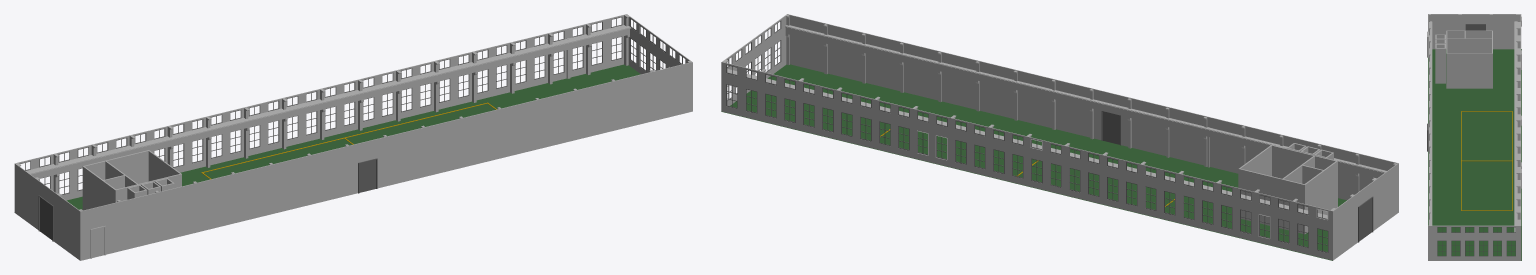
Rendered from sankualou_low.fbx.
3 renders of one model, left to right at view 1: azimuth 30°, elevation 25°; view 2: azimuth 150°, elevation 25°; view 3: azimuth 270°, elevation 25°, orthographic. The views are drawn at different scales.
Visible parts, largest first — view 1: sankualou_low; view 2: sankualou_low; view 3: sankualou_low.
Boxes of the visible parts, <box> form: sankualou_low: <box>14,14,692,260</box>; sankualou_low: <box>721,14,1398,260</box>; sankualou_low: <box>1427,14,1521,260</box>.
Bounding box in the file's own units: 9677 × 744 × 1826.
